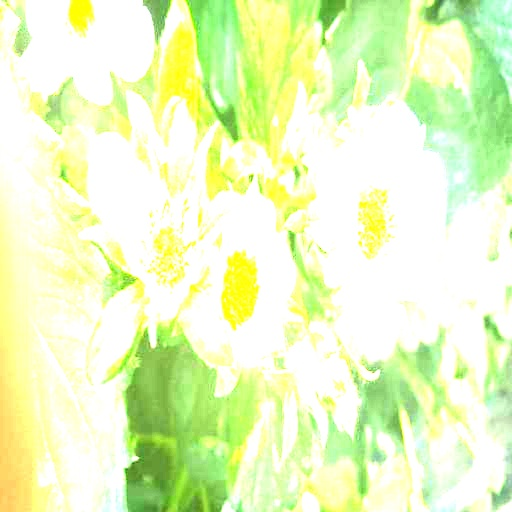Blossom Blight: (133, 194, 204, 296), (348, 174, 403, 281)
